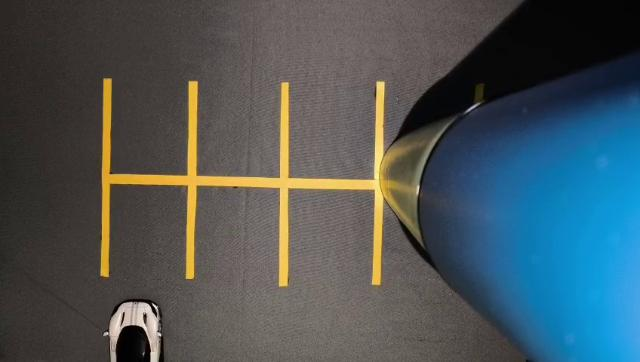toy_car: (87, 273, 189, 362)
